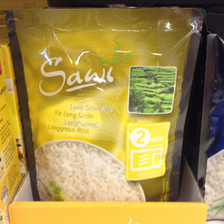rice: (6, 7, 202, 202)
